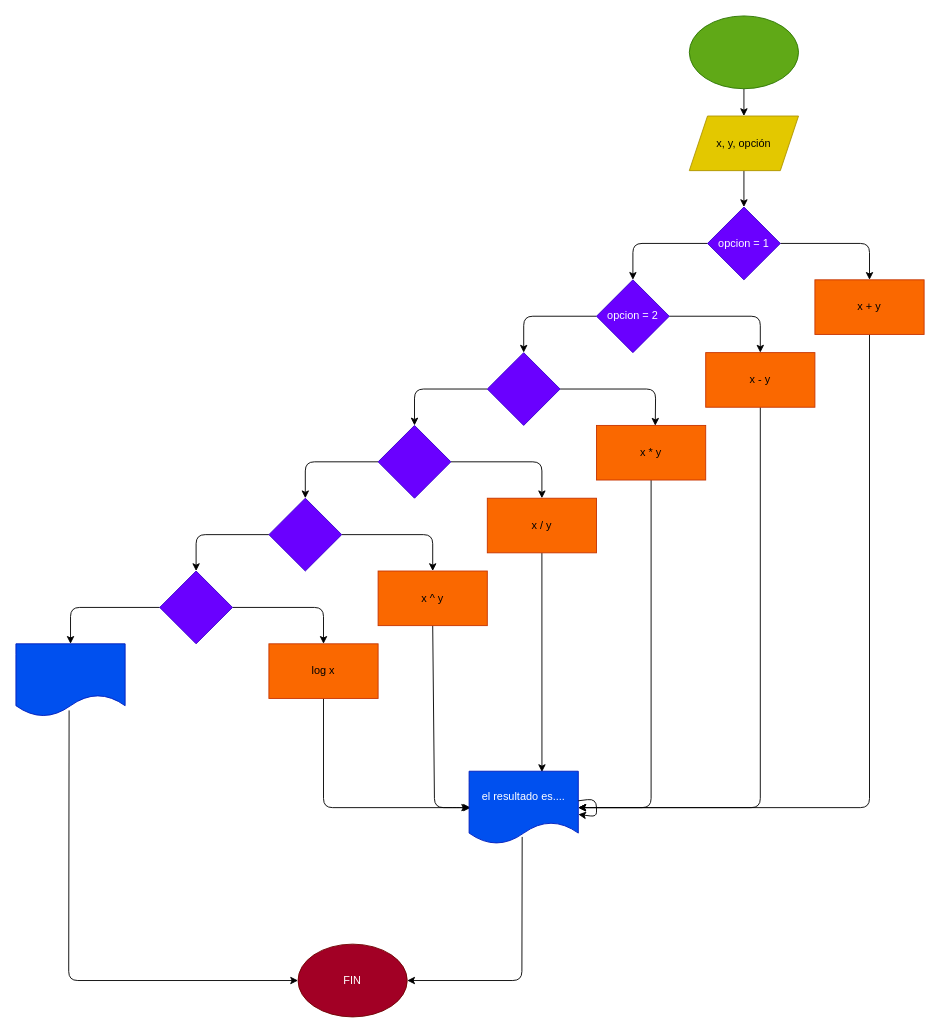
The diagram is 940 pixels wide and 1033 high, and some of its shapes have lost their labels. The box of each missing label's shape, as (x1, y1, x2, y2) in pixels:
inicio: (688, 15, 799, 89)
opcion = 3: (486, 352, 560, 425)
opcion = 4: (377, 425, 451, 498)
opcion = 5: (268, 497, 342, 571)
opcion = 6: (159, 570, 233, 644)
Opcion no valida: (15, 643, 125, 717)
